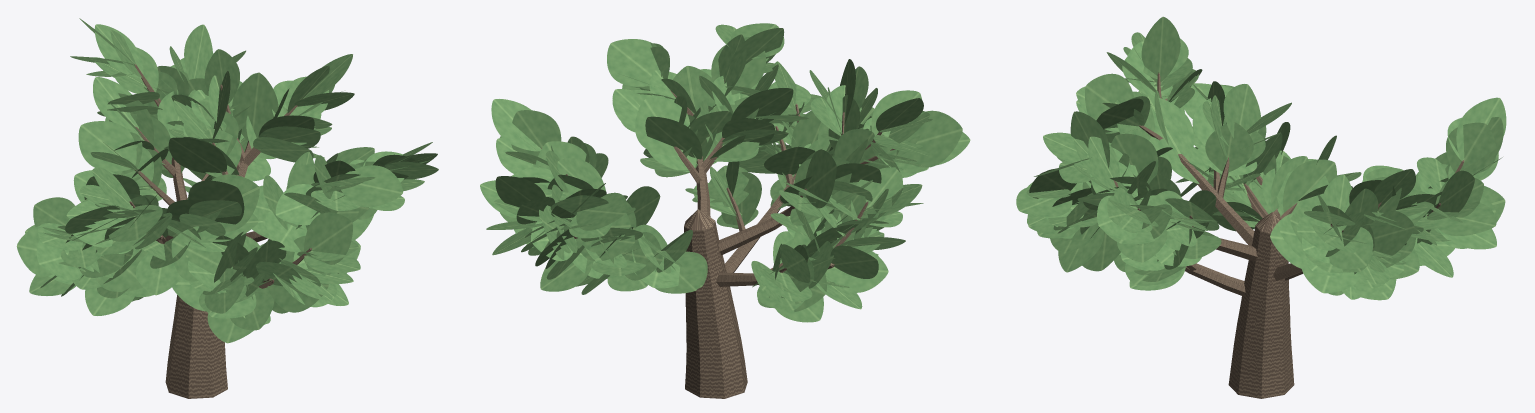
The model's file is 참나무_01.fbx.
3 renders of one model, left to right at view 1: azimuth 30°, elevation 25°; view 2: azimuth 150°, elevation 25°; view 3: azimuth 270°, elevation 25°, orthographic.
Parts seen in each view (by area): view 1: 참나무_01; view 2: 참나무_01; view 3: 참나무_01.
Boxes of the visible parts, x1,y1,x2,y2 form: 참나무_01: (16,18,438,398); 참나무_01: (480,23,970,398); 참나무_01: (1016,16,1506,398).
Size of the model in its own units: 15784 by 11400 by 17913.
Materials: 2 (2 with a texture image).
